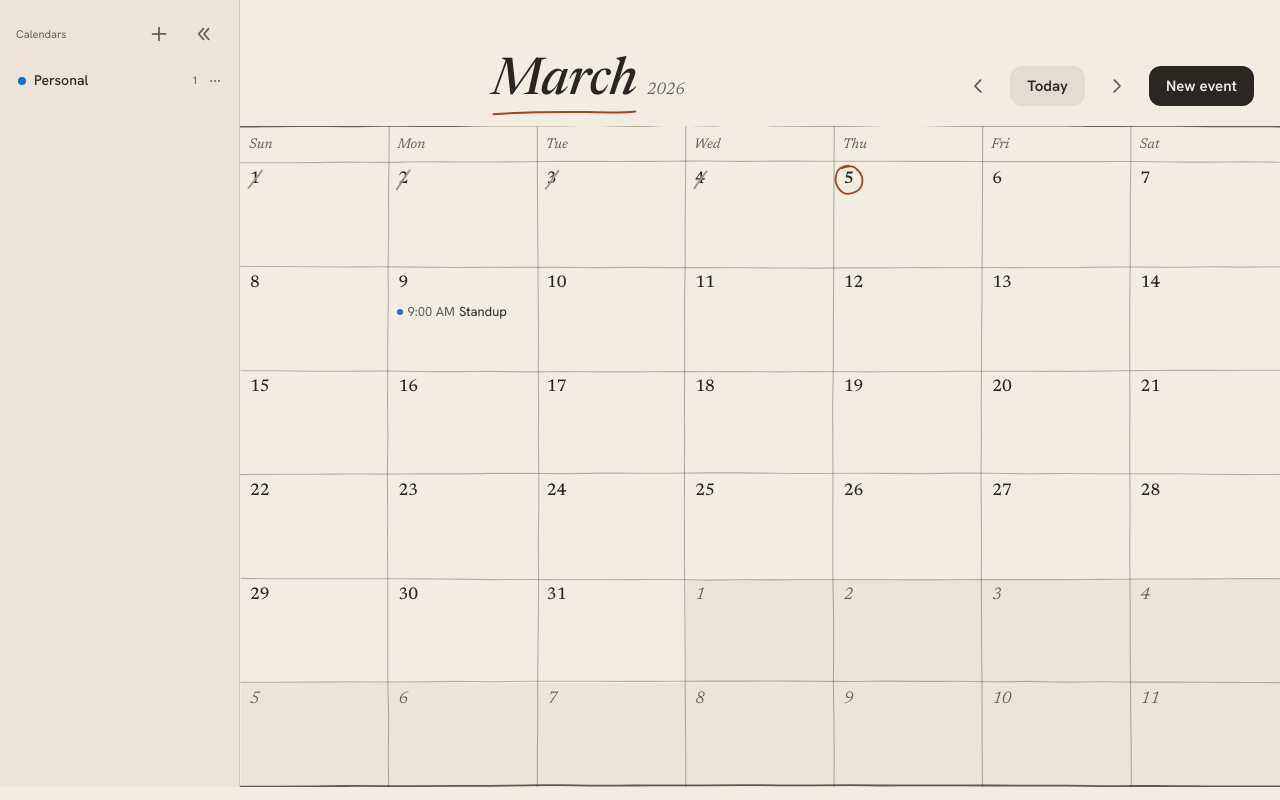
Test: 2026-08-25 — reaching the month grid from a keyboard › still opens an event when the chip is clicked
Click the button with class "cal-ev": (457, 312) [407,303,507,320]
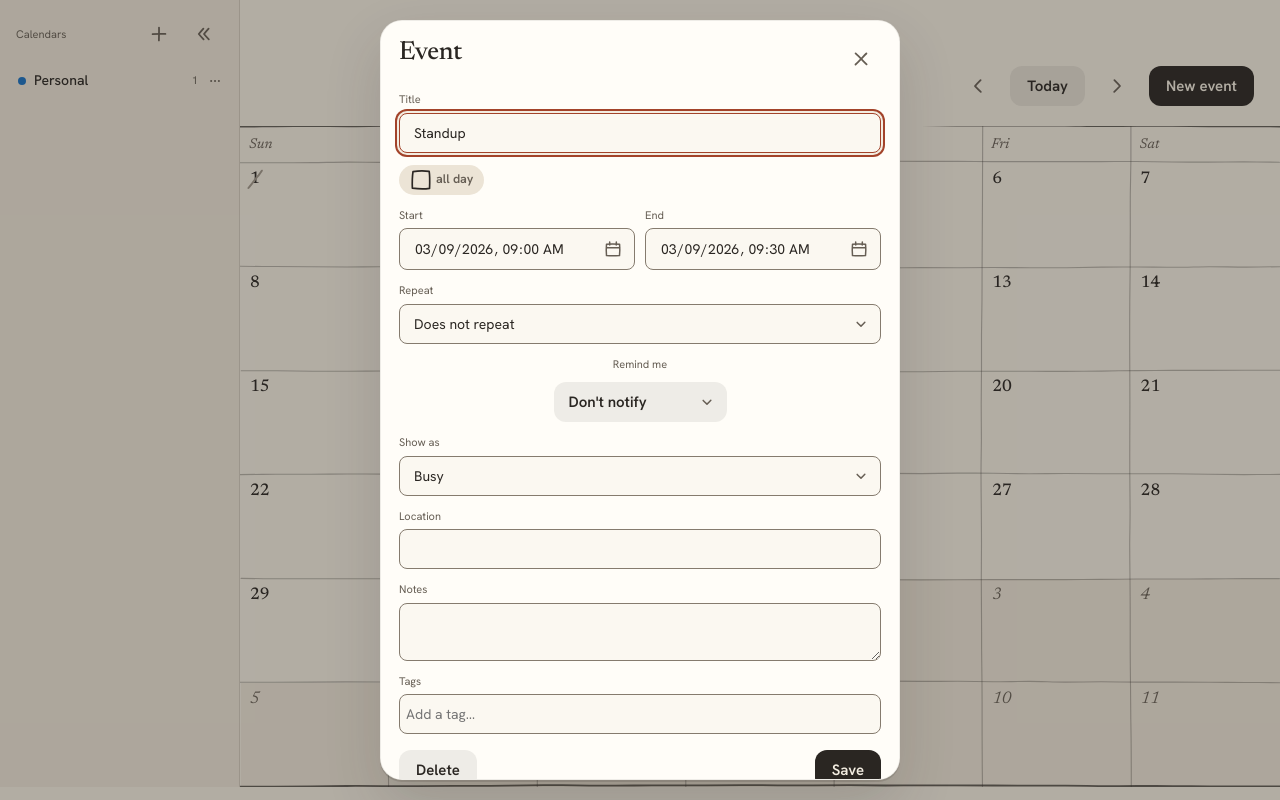
Result: the dialog is shown at [380,20,900,780]
